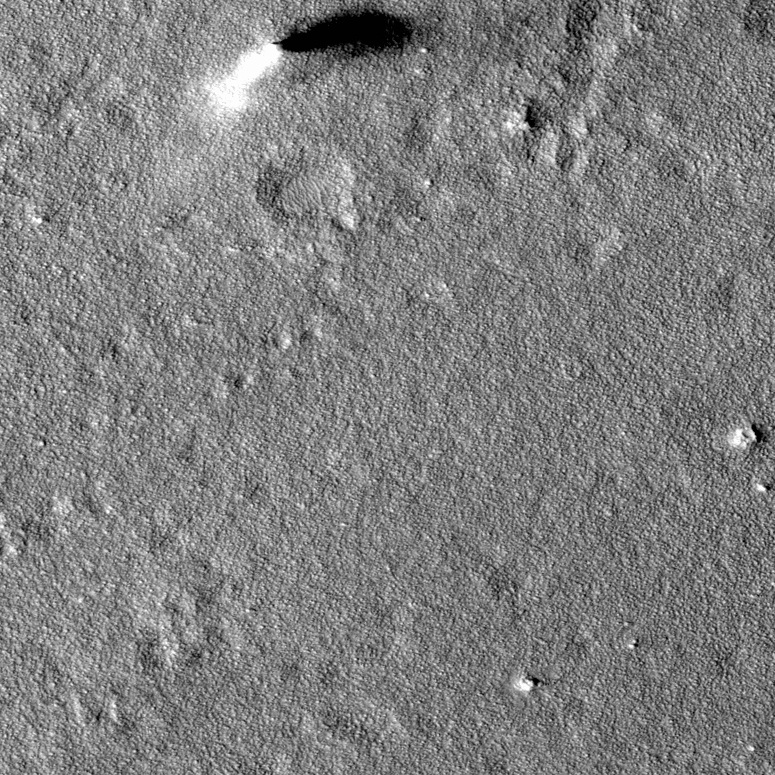dust_devil: (202, 2, 418, 121)
